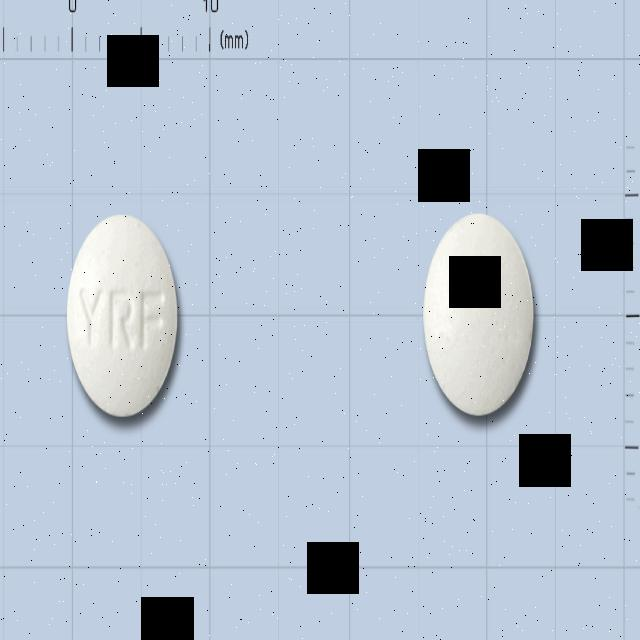Leprosin: (67, 214, 179, 420)
